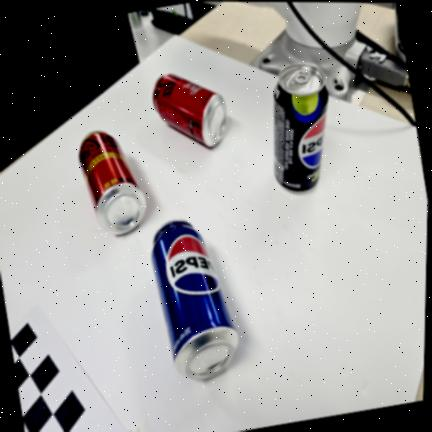can_coke_decaf: (79, 131, 146, 234)
can_coke_zero: (153, 74, 227, 147)
can_pepsi: (151, 220, 239, 379)
can_pepsi_zero: (274, 63, 328, 192)
